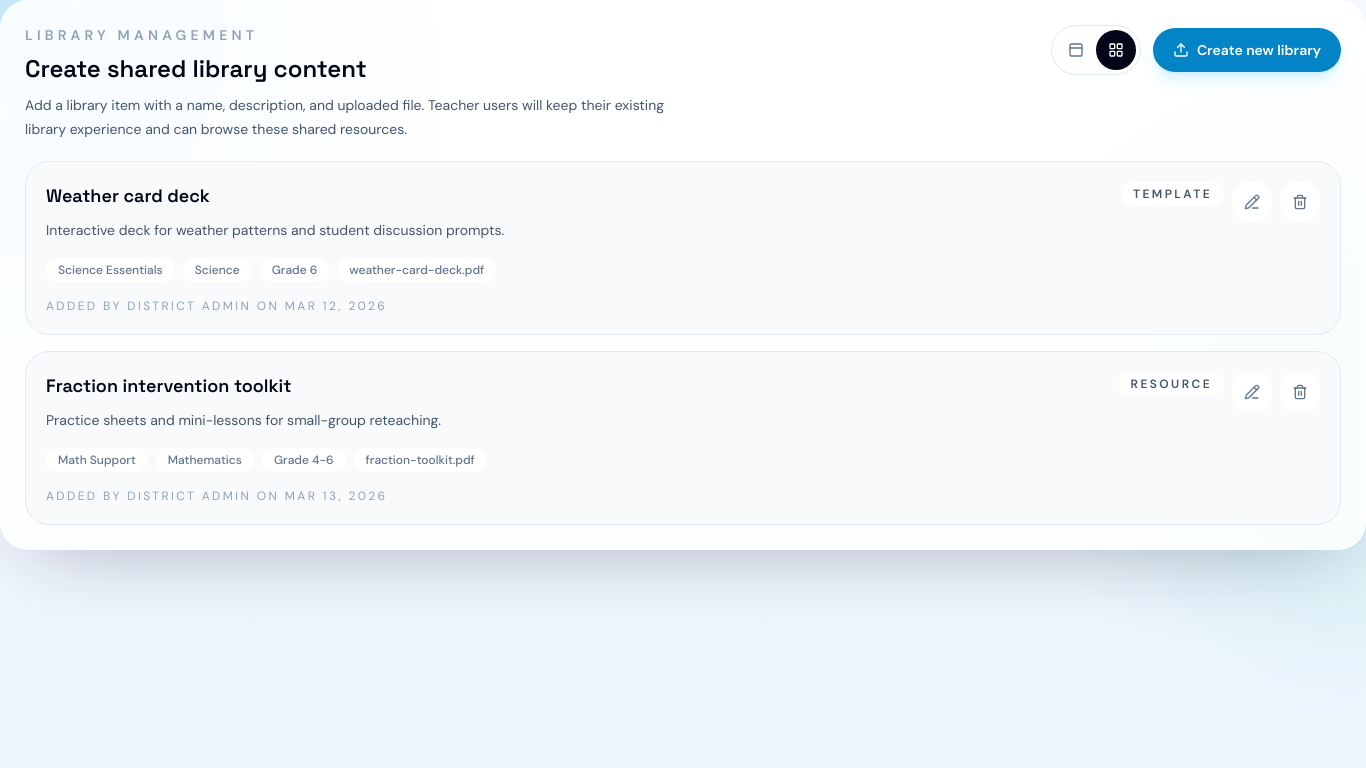
Test: ui components › edits an admin library item from the library module
The image size is (1366, 768).
Click the button named "edit weather card deck".
click(1252, 202)  # box [1232,182,1272,222]
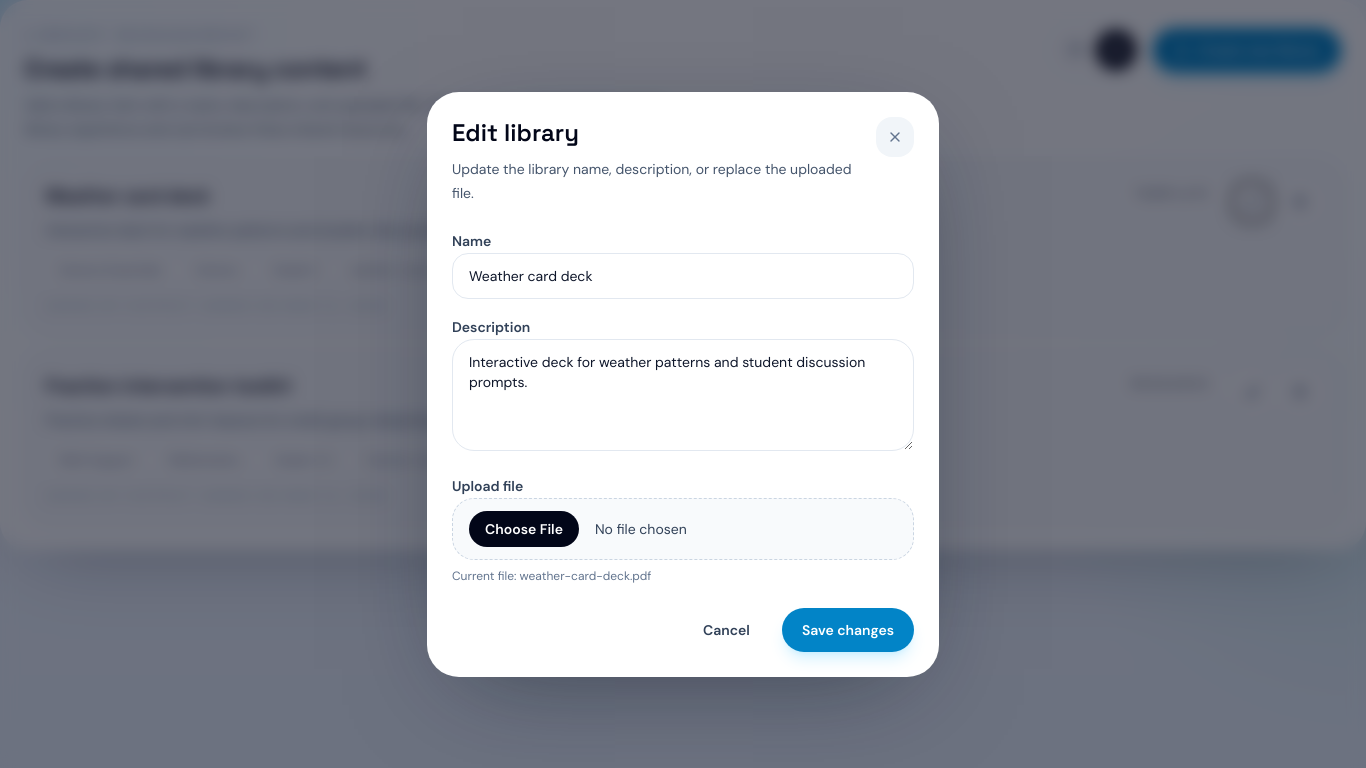
Replace the text in the field labelled "Name" with "Updated Weather card deck" at (683,276), box [452,252,914,298]
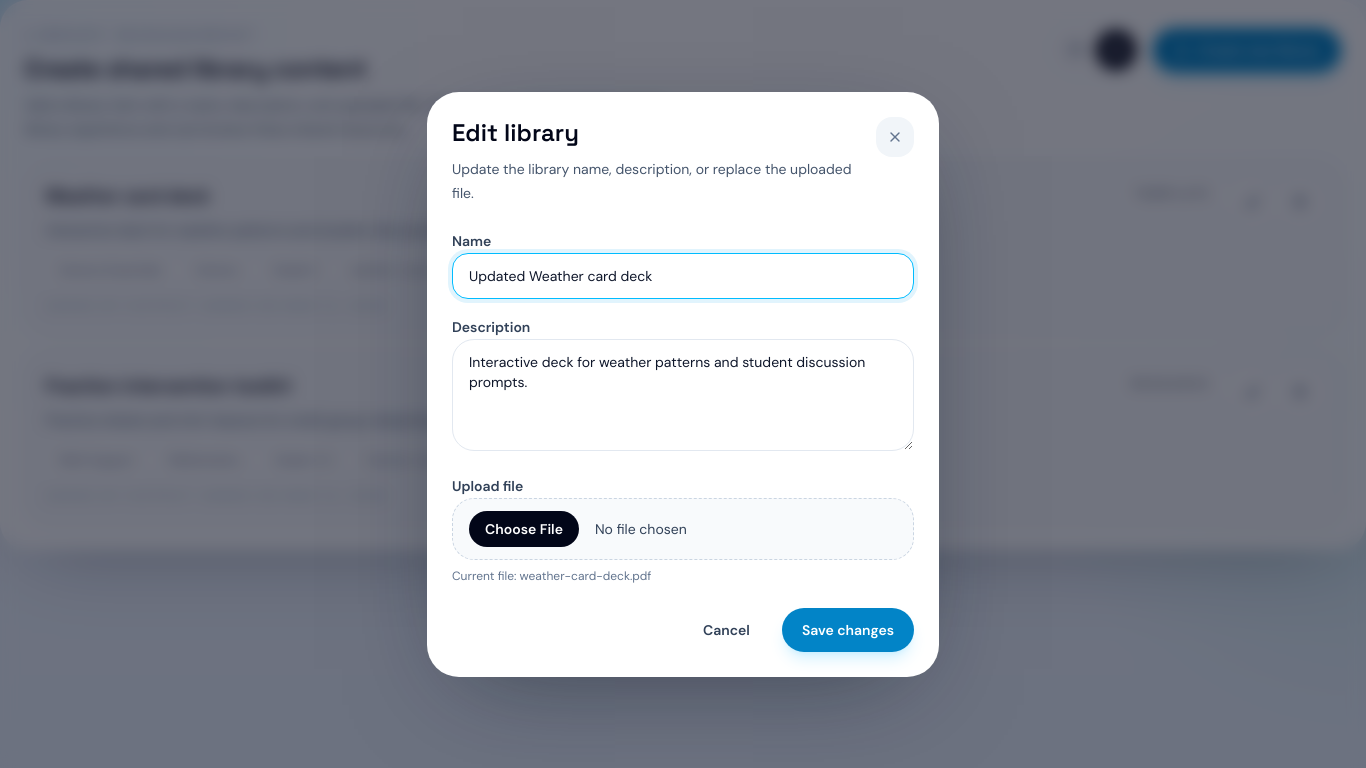
Replace the text in the text box labelled "Description" with "Updated deck for science review." at (683,394), box [452,338,914,450]
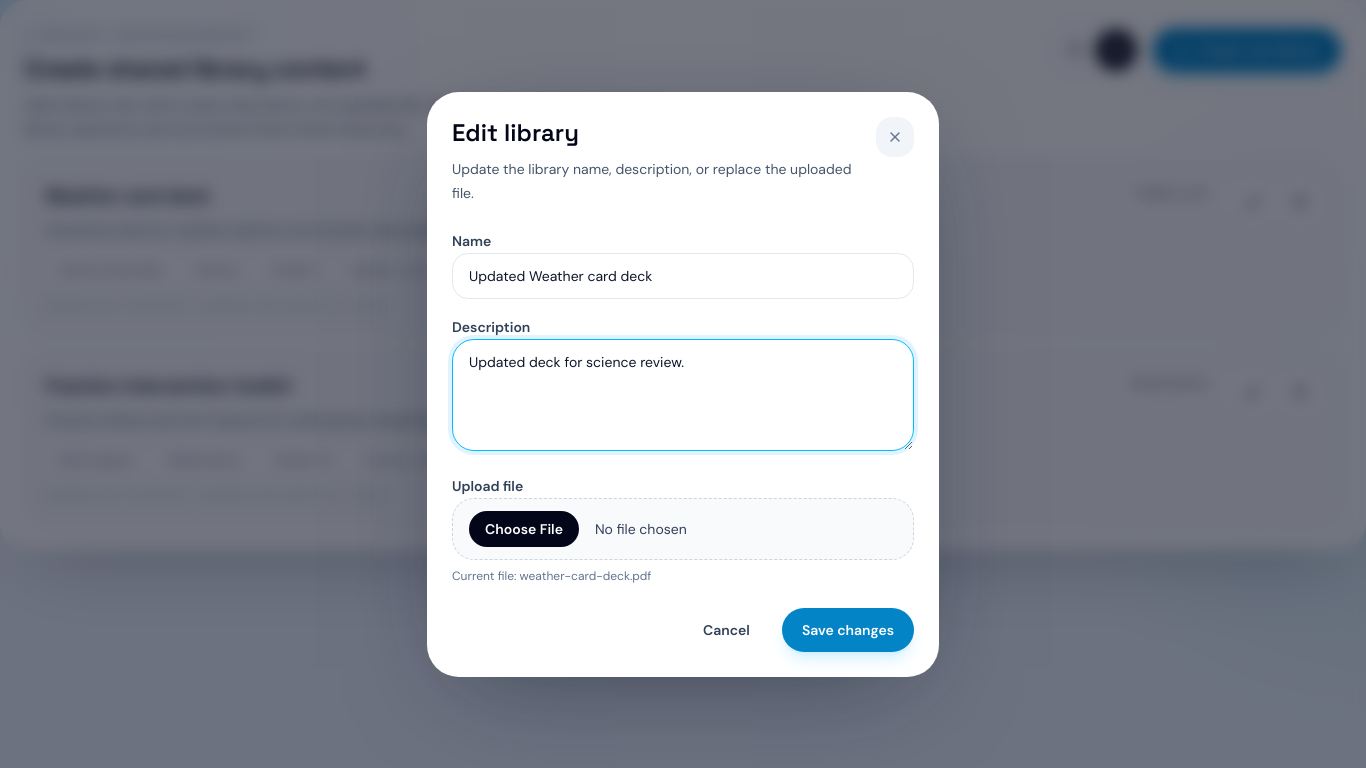
Click the button "Save changes".
click(848, 630)  # box [782,608,914,652]
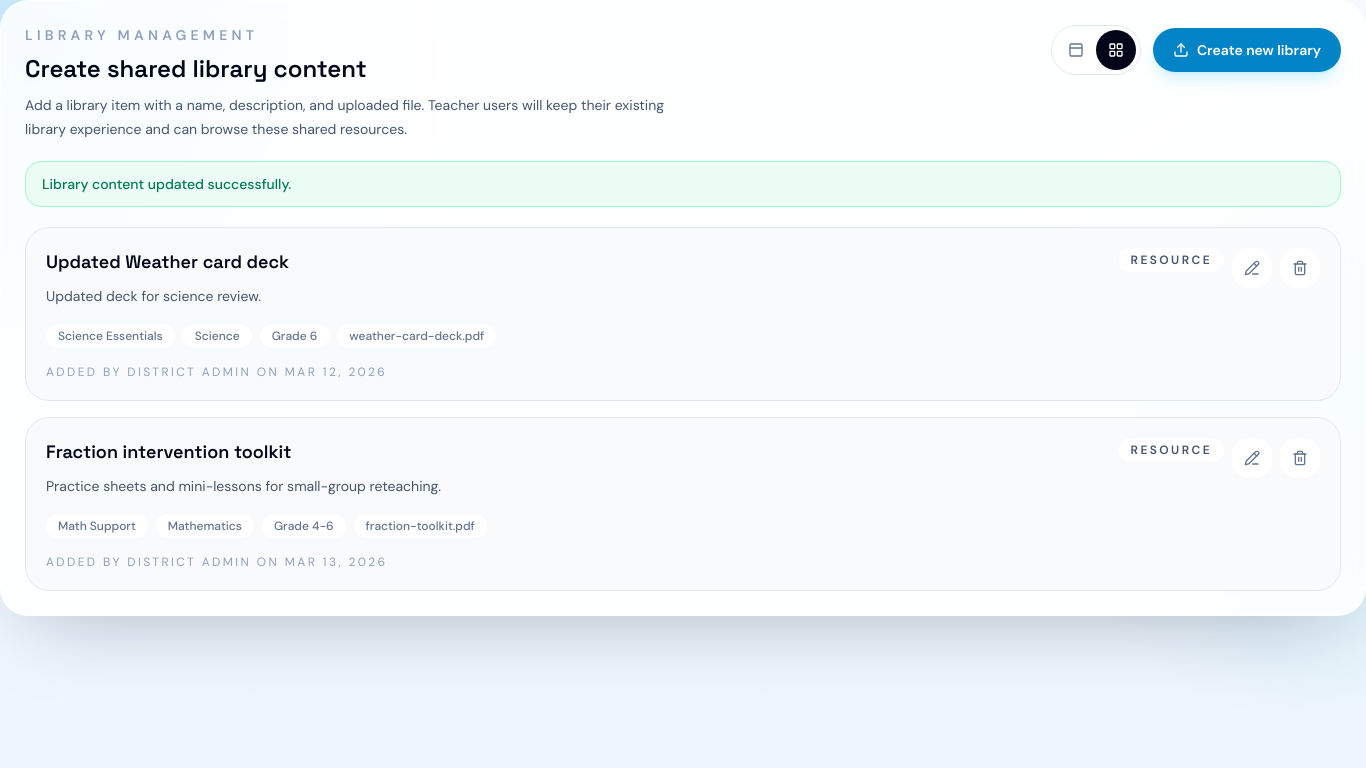
expect the text "Library content updated successfully." is shown: met, box [25,161,1341,207]
expect the heading "Updated Weather card deck" is shown: met, box [46,248,289,276]
